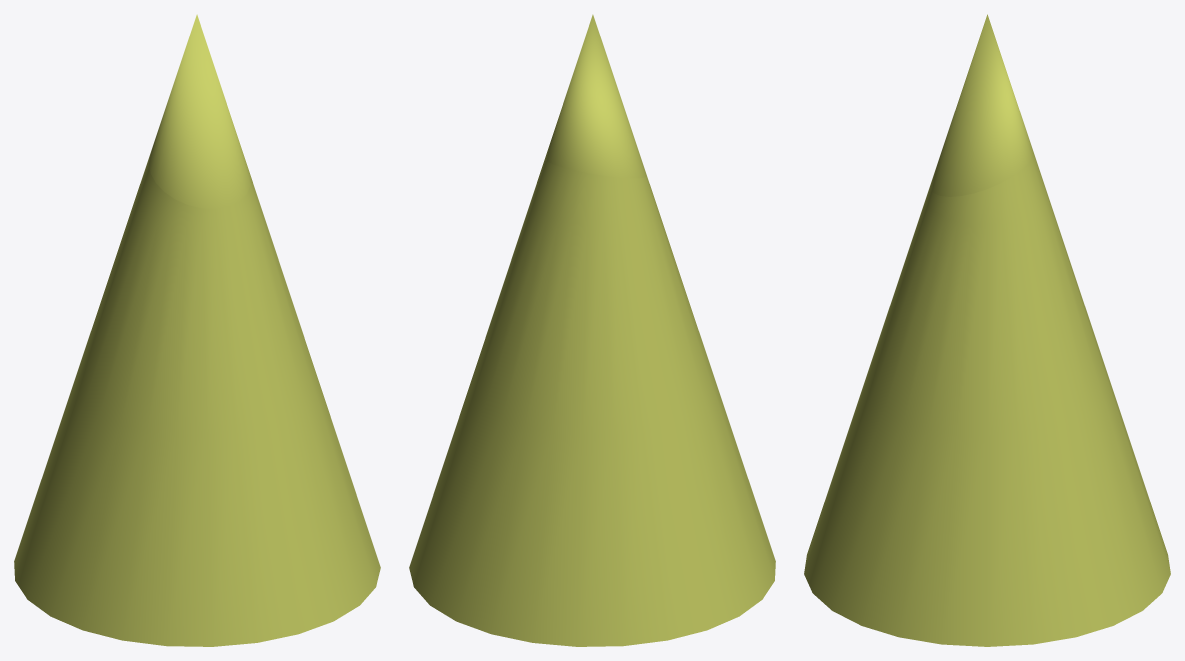
The model's file is ConePrimitive_1.fbx.
The picture shows the model from 3 angles, left to right: view 1: azimuth 30°, elevation 25°; view 2: azimuth 150°, elevation 25°; view 3: azimuth 270°, elevation 25°; orthographic projection.
Visible parts, largest first — view 1: ConeBase, ConeLid; view 2: ConeBase, ConeLid; view 3: ConeBase, ConeLid.
Part boxes in pixels (x1,y1,x2,y2): ConeBase: [14, 157, 380, 646]; ConeLid: [148, 14, 250, 208]; ConeBase: [409, 160, 775, 646]; ConeLid: [544, 14, 646, 178]; ConeBase: [804, 150, 1170, 646]; ConeLid: [930, 14, 1033, 196].
Bounding box in the file's own units: 26.91 × 45.03 × 26.97.
